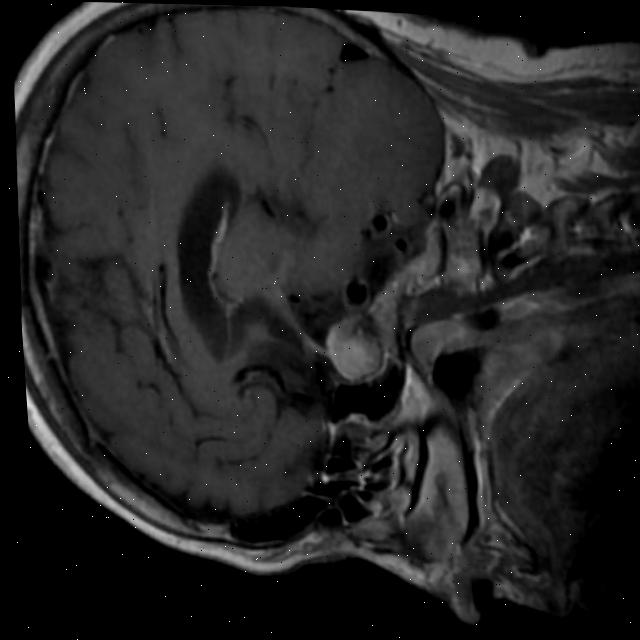Pituitary: (322, 317, 384, 380)
